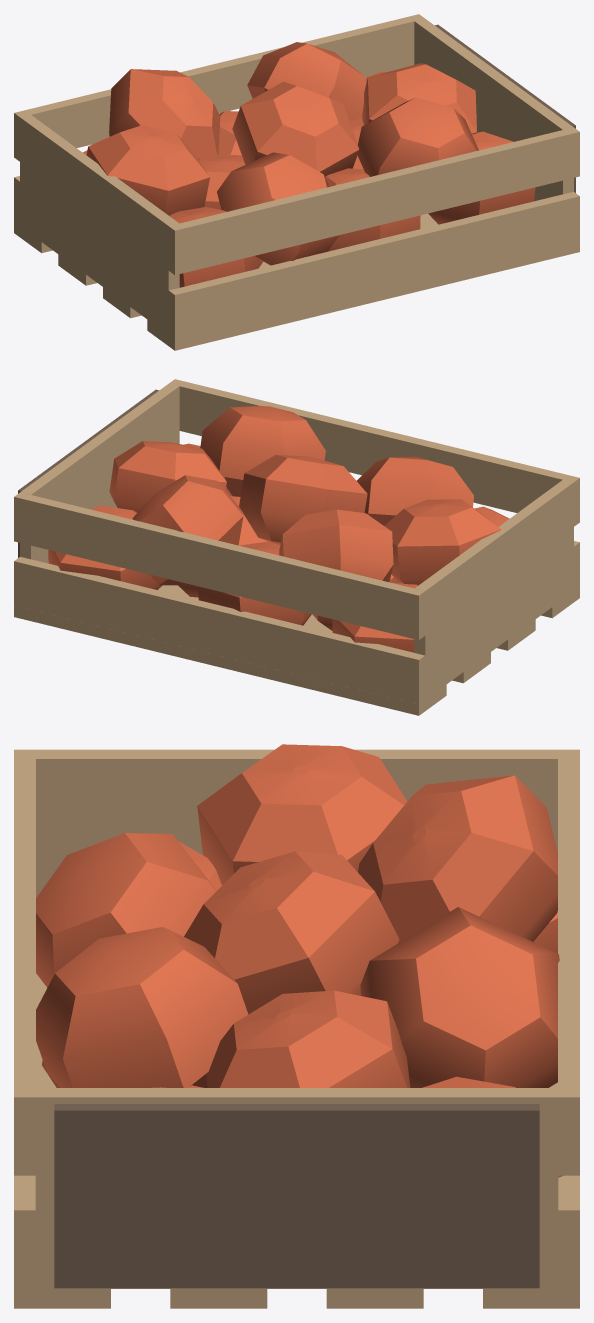
File: orange crate.fbx
3 renders of one model, top to bottom at view 1: azimuth 30°, elevation 25°; view 2: azimuth 150°, elevation 25°; view 3: azimuth 270°, elevation 25°, orthographic. The views are drawn at different scales.
Parts seen in each view (by area): view 1: crate; view 2: crate; view 3: crate.
Part boxes in pixels (x1,y1,x2,y2): crate: [14, 14, 579, 350]; crate: [14, 379, 579, 715]; crate: [14, 744, 579, 1308].
Bounding box in the file's own units: 15.13 × 5.44 × 10.23.
